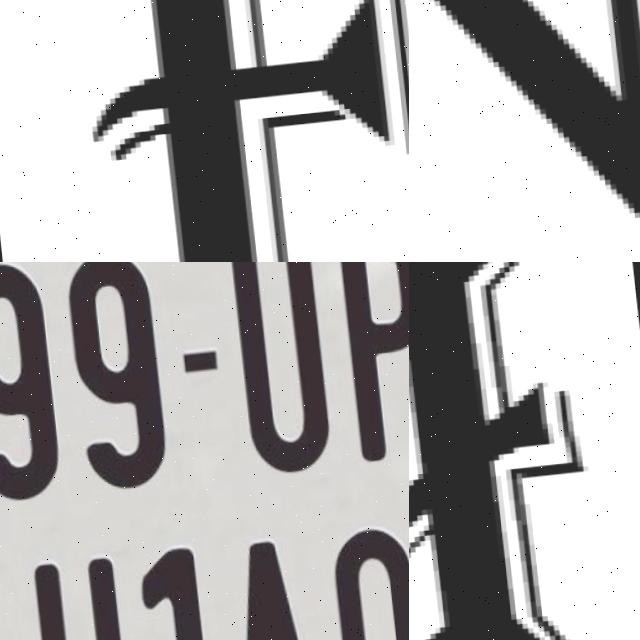0: (323, 523, 409, 640)
1: (129, 545, 209, 640)
9: (58, 262, 168, 495), (0, 262, 67, 505)
A: (409, 262, 603, 640), (213, 533, 329, 640)
F: (82, 0, 409, 262)
N: (409, 0, 640, 262)
P: (334, 262, 409, 469)
U: (226, 262, 331, 478), (26, 557, 136, 640)
